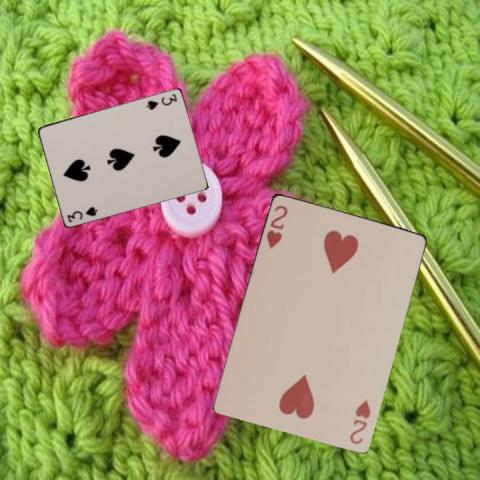2h: (262, 201, 288, 250), (346, 397, 372, 445)
3s: (143, 90, 179, 110), (65, 204, 99, 223)
